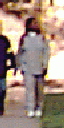person: (12, 16, 51, 117)
